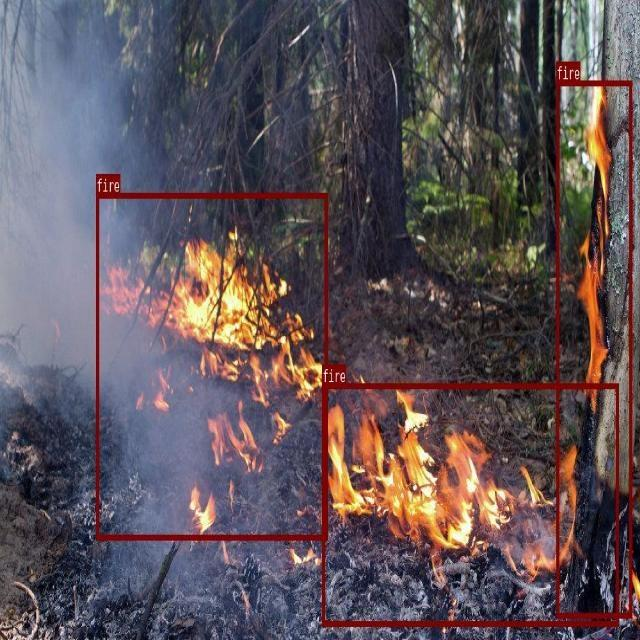fire: (95, 193, 327, 539), (322, 383, 618, 625), (556, 80, 632, 617)
